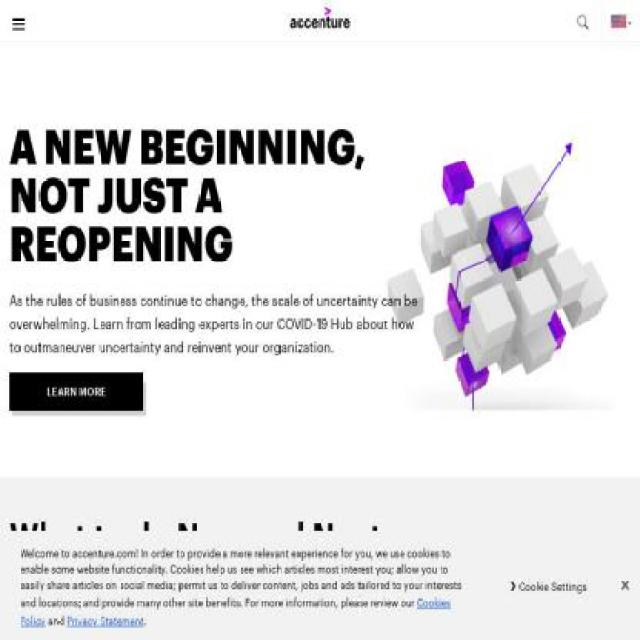button: (9, 584, 205, 639), (222, 584, 418, 639), (435, 584, 631, 639), (9, 356, 145, 416), (504, 568, 588, 604), (600, 0, 640, 43)
